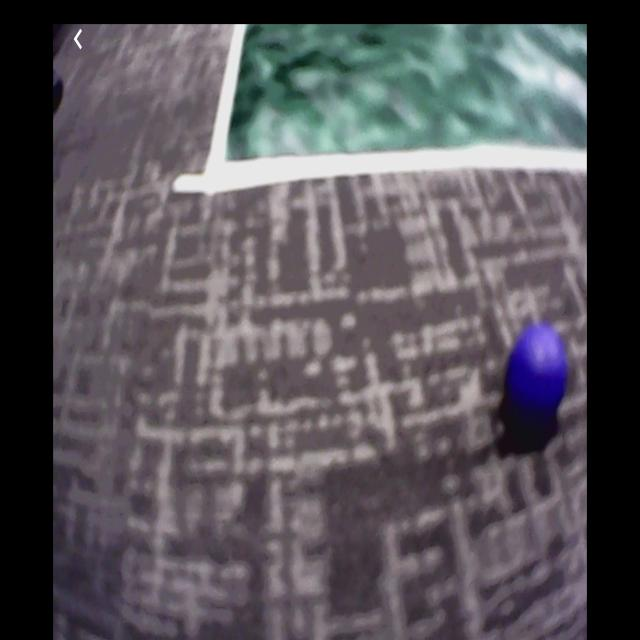ball: (509, 324, 569, 419)
